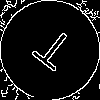T: (25, 25, 77, 80)
